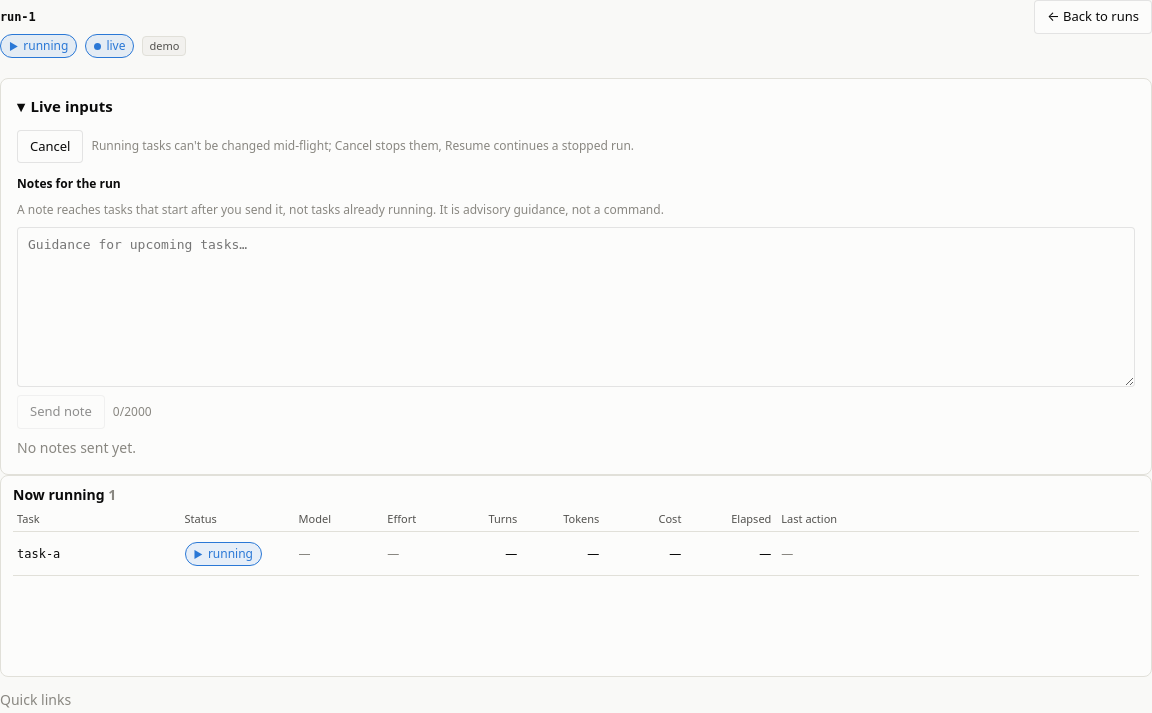
Test: operator notes box › shows the server error and keeps the draft when the post is rejected
Step 1. Type "keep me" into the text box named "Operator note" → coordinates (576, 307), box x1=17 y1=227 x2=1135 y2=387
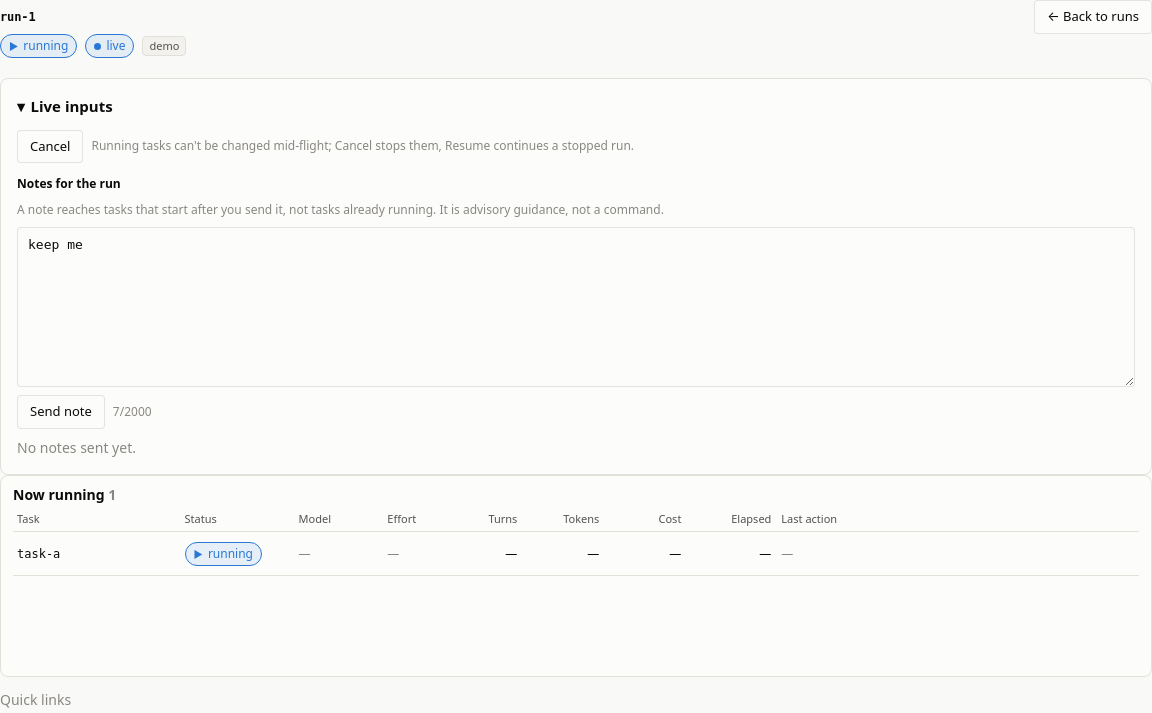
Step 2. Click the button "Send note" → coordinates (61, 412), box x1=17 y1=395 x2=105 y2=428
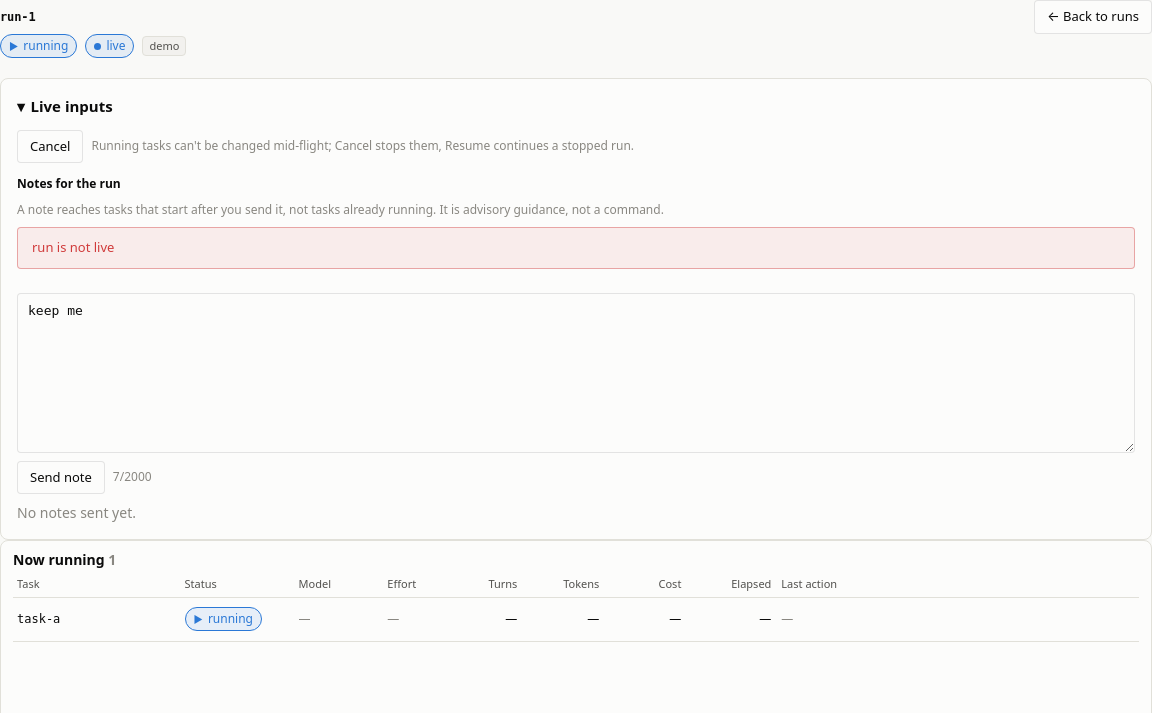
Result: the text "run is not live" is shown at x1=17 y1=227 x2=1135 y2=268
